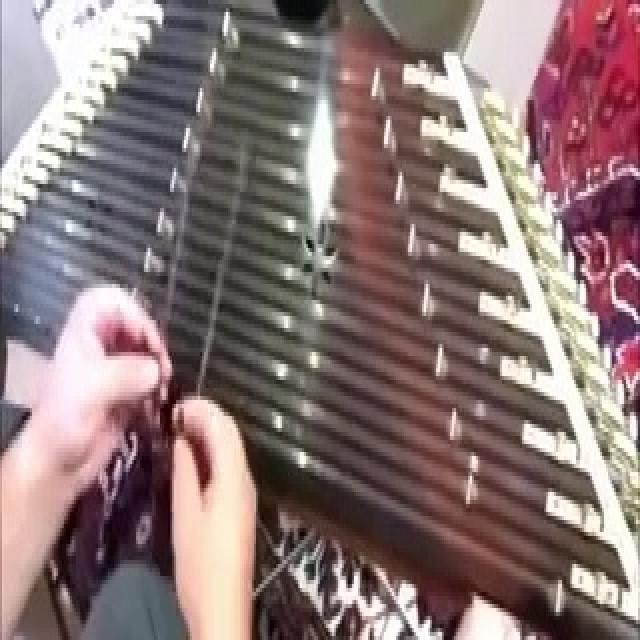Santur: (2, 0, 640, 640)
